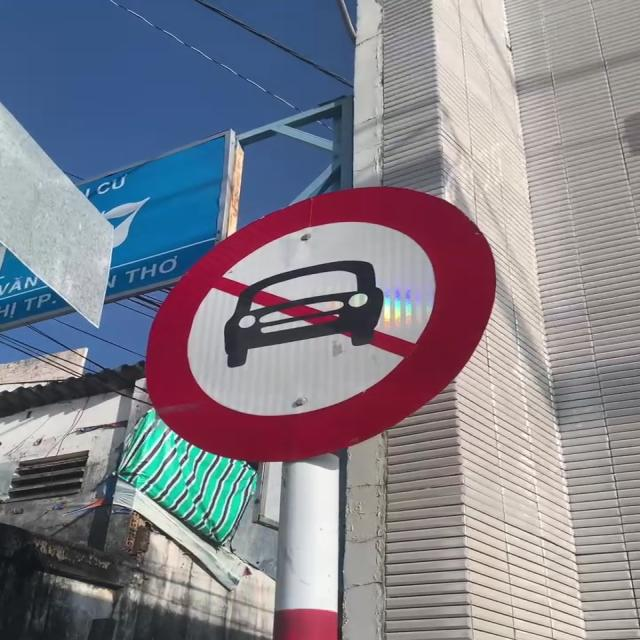Cam_O_To: (137, 182, 503, 469)
